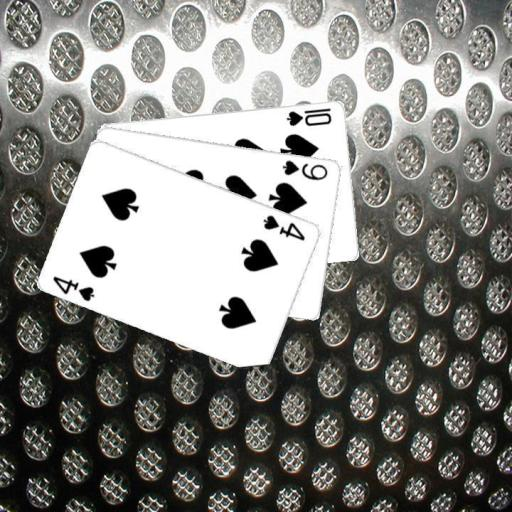card-corner: (260, 211, 307, 242), (50, 272, 96, 303), (279, 156, 330, 182), (284, 104, 334, 127)
